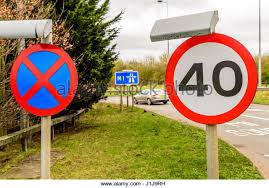Speed_limit_40km: (165, 35, 256, 124)
